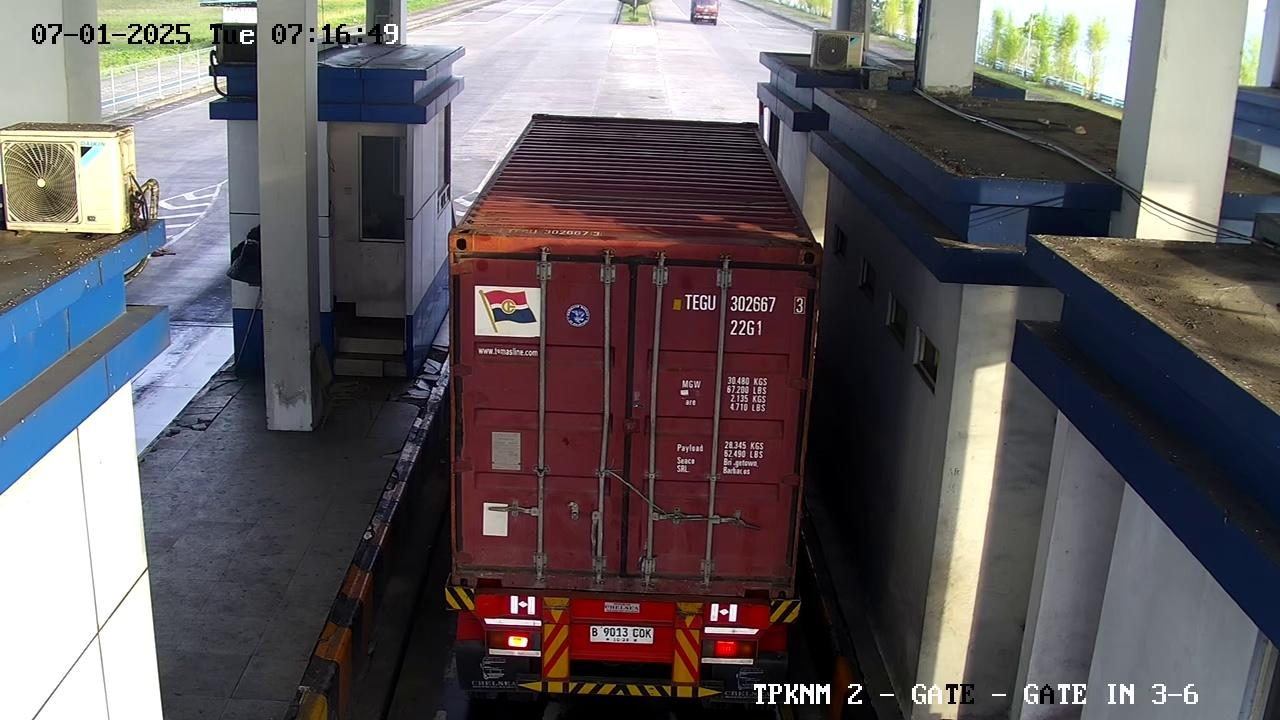Container_ID: (659, 289, 819, 318)
plate_number: (577, 615, 665, 663)
